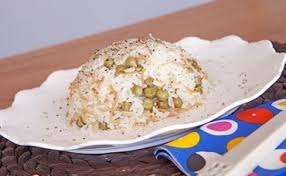pirinc_pilavi: (67, 34, 205, 129)
